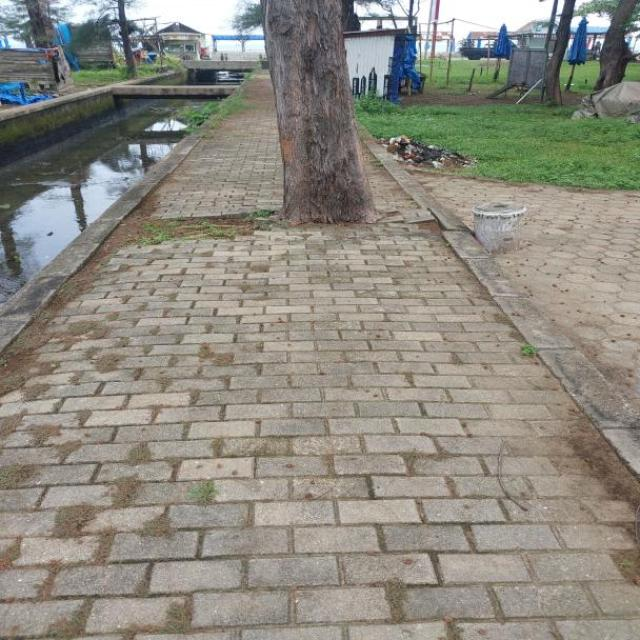tree ahead at: (248, 0, 382, 223)
